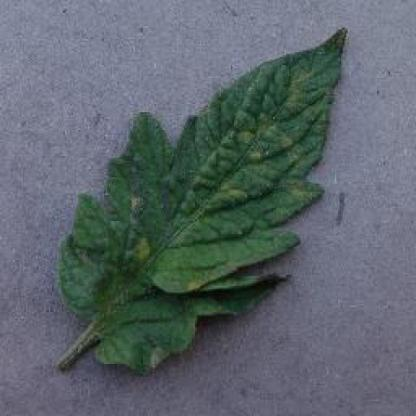Tomato_Leaf_Mold: (58, 27, 349, 370)
